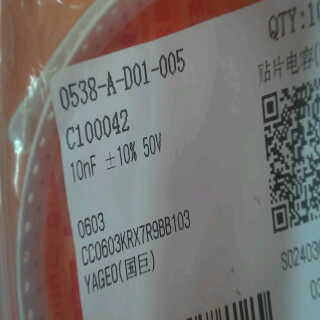10nF: (65, 153, 103, 183)
